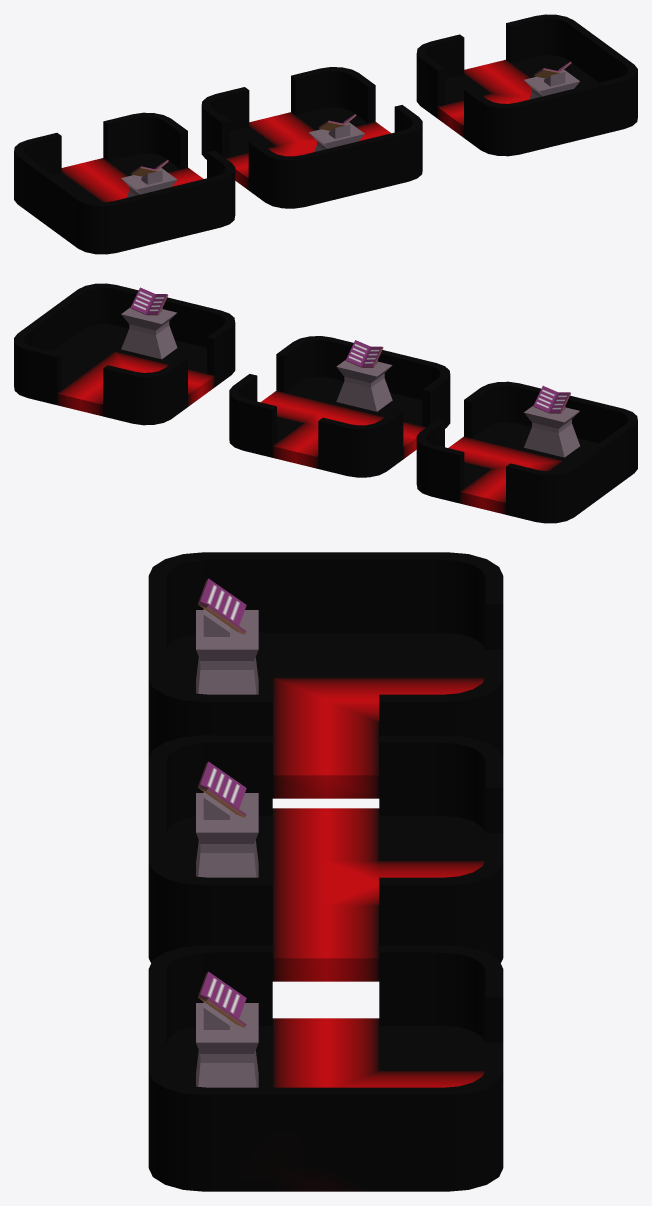
File: Finish_Set.fbx
3 views of the same model, one above another, from view 1: azimuth 30°, elevation 25°; view 2: azimuth 150°, elevation 25°; view 3: azimuth 270°, elevation 25° (orthographic). The views are drawn at different scales.
Visible parts, largest first — view 1: Ri_Do_finish_room, Le_Do_finish_room, T_finish_room; view 2: Ri_Do_finish_room, Le_Do_finish_room, T_finish_room; view 3: Ri_Do_finish_room, Le_Do_finish_room, T_finish_room.
Part boxes in pixels (left/top/right/bottom): Ri_Do_finish_room: left=416, top=14, right=637, bottom=156; Le_Do_finish_room: left=14, top=112, right=235, bottom=254; T_finish_room: left=201, top=67, right=422, bottom=208; Ri_Do_finish_room: left=14, top=283, right=235, bottom=425; Le_Do_finish_room: left=416, top=381, right=637, bottom=523; T_finish_room: left=229, top=336, right=450, bottom=477; Ri_Do_finish_room: left=148, top=945, right=503, bottom=1191; Le_Do_finish_room: left=148, top=552, right=503, bottom=798; T_finish_room: left=148, top=735, right=503, bottom=981.
Bounding box in the file's own units: 362 × 41.18 × 100.
